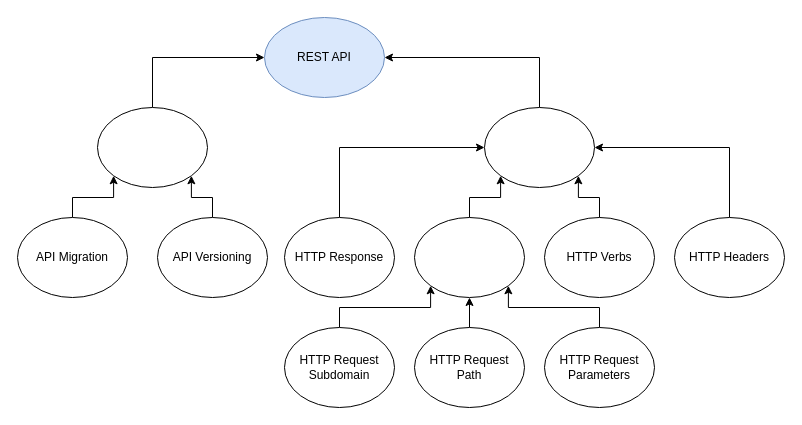
Some shapes in this 802 by 425 pixel diagram are drawn without their labels. Here are the shapes that lost their labels. From the top down, the centre of each, then its label:
At pixel 152 147: "API Compatibility".
At pixel 539 147: "Client Communication".
At pixel 469 257: "HTTP Request".
